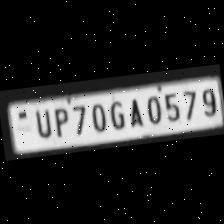0: (85, 99, 108, 133), (141, 92, 163, 124)
5: (160, 88, 182, 124)
7: (66, 101, 89, 136), (177, 86, 200, 121)
9: (196, 86, 220, 119)
A: (122, 94, 144, 128)
G: (105, 96, 127, 130)
P: (48, 103, 72, 138)
U: (28, 106, 54, 140)
